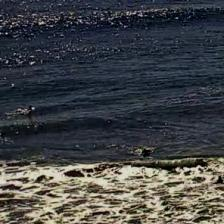surfer: (13, 106, 32, 113), (142, 148, 152, 157)
